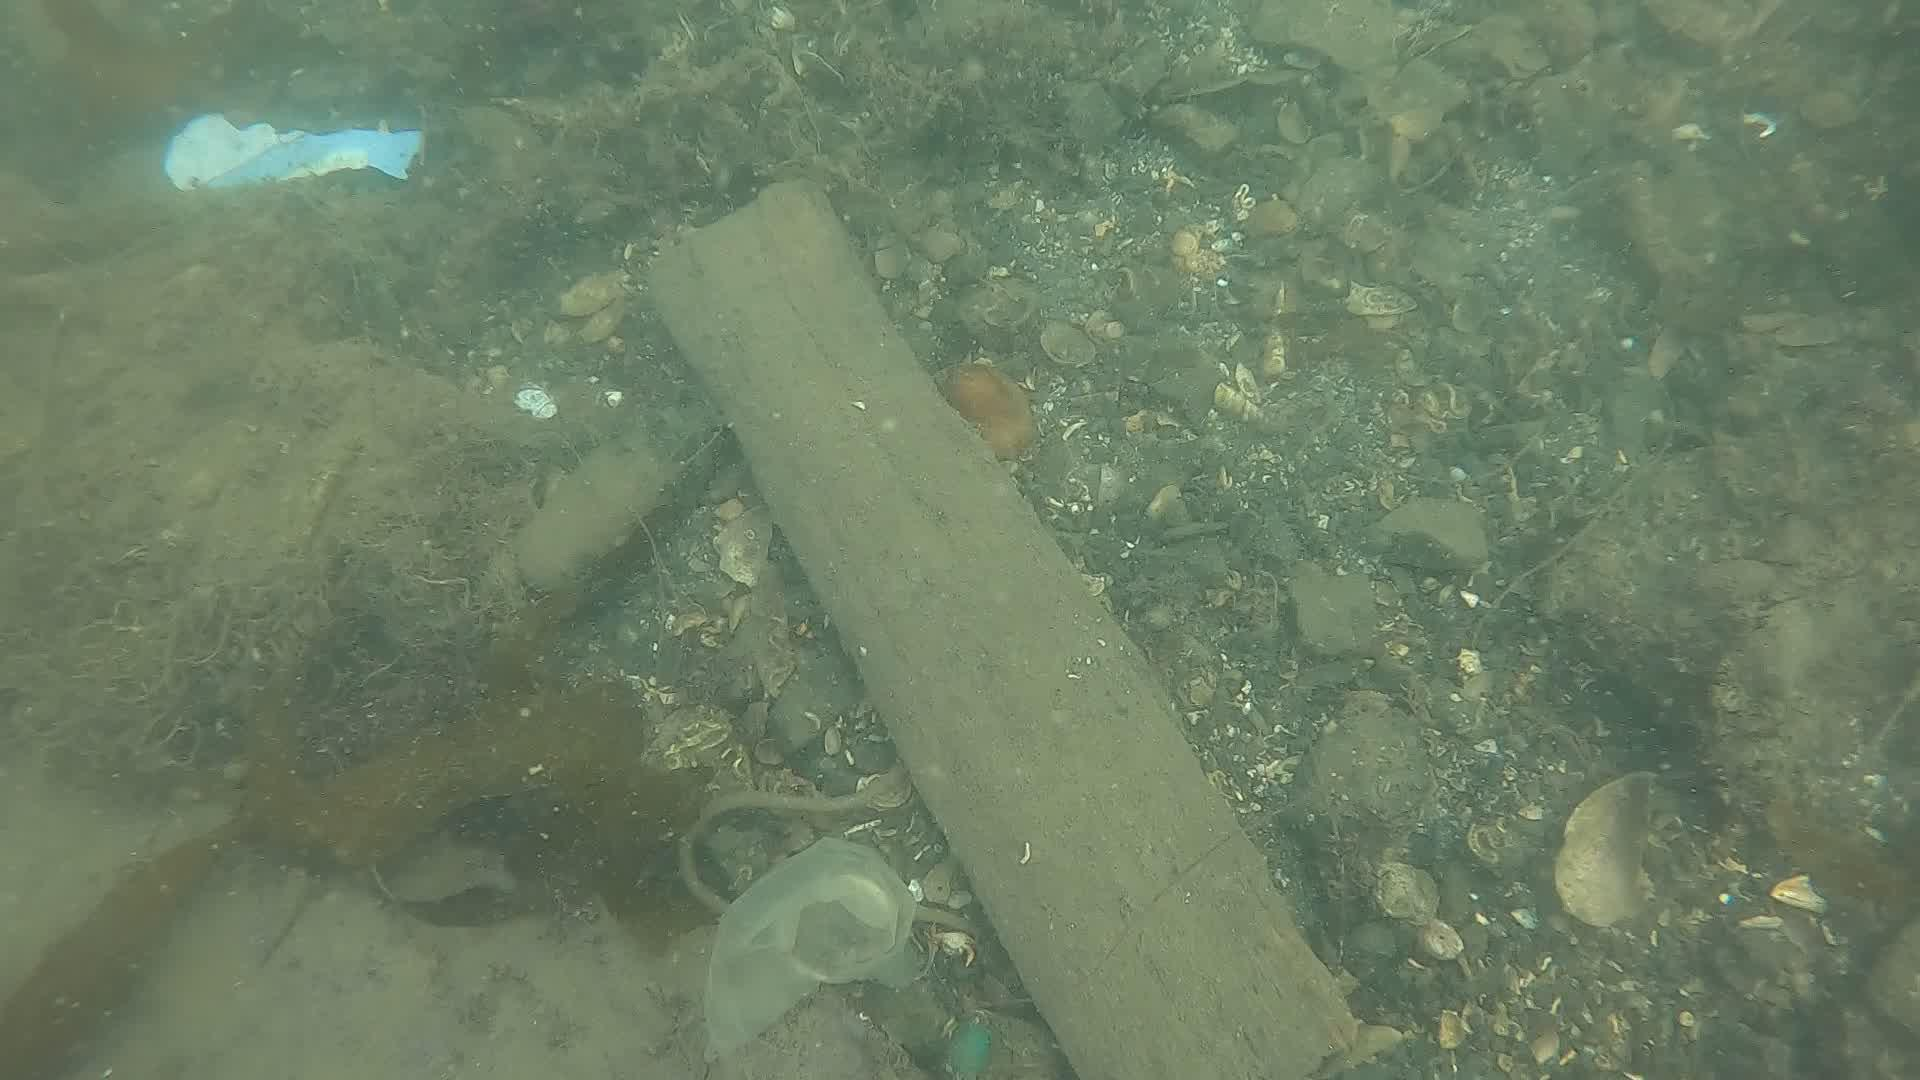wood: (642, 175, 1367, 1080)
